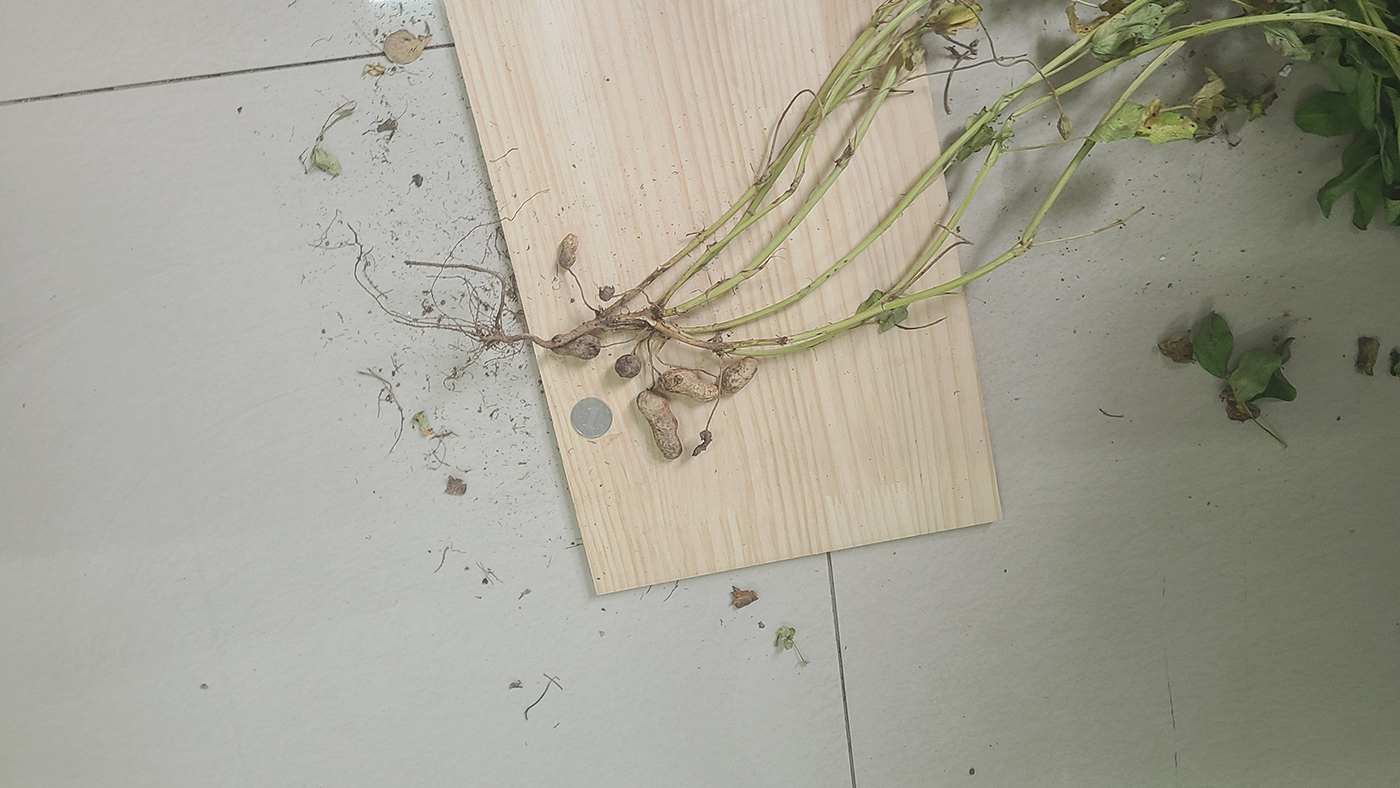h: (720, 357, 759, 391)
l: (637, 389, 683, 459), (658, 367, 720, 402), (549, 334, 603, 359), (558, 233, 579, 269), (615, 353, 642, 378), (692, 429, 712, 456), (598, 285, 616, 302)
